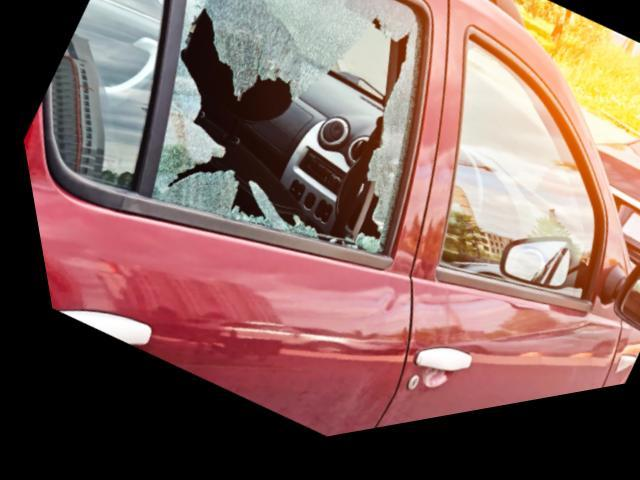glass shatter: (140, 0, 424, 270)
